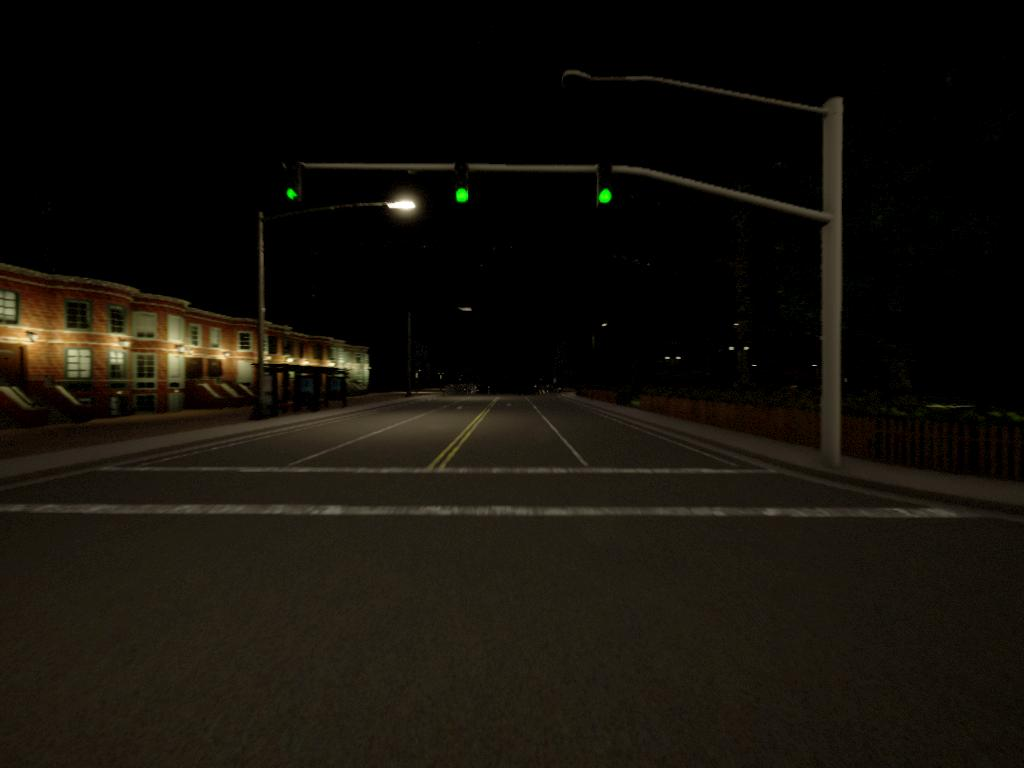traffic_light: (451, 163, 473, 209), (597, 161, 618, 206), (281, 164, 303, 206)
